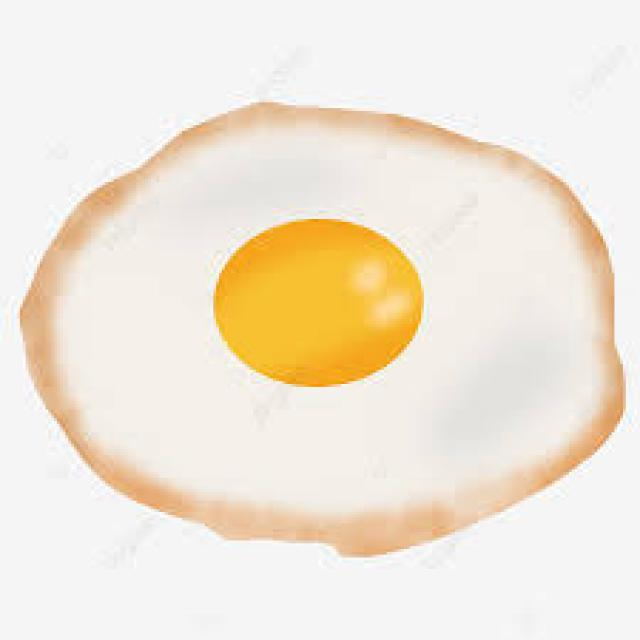Fried Egg: (22, 103, 630, 561)
